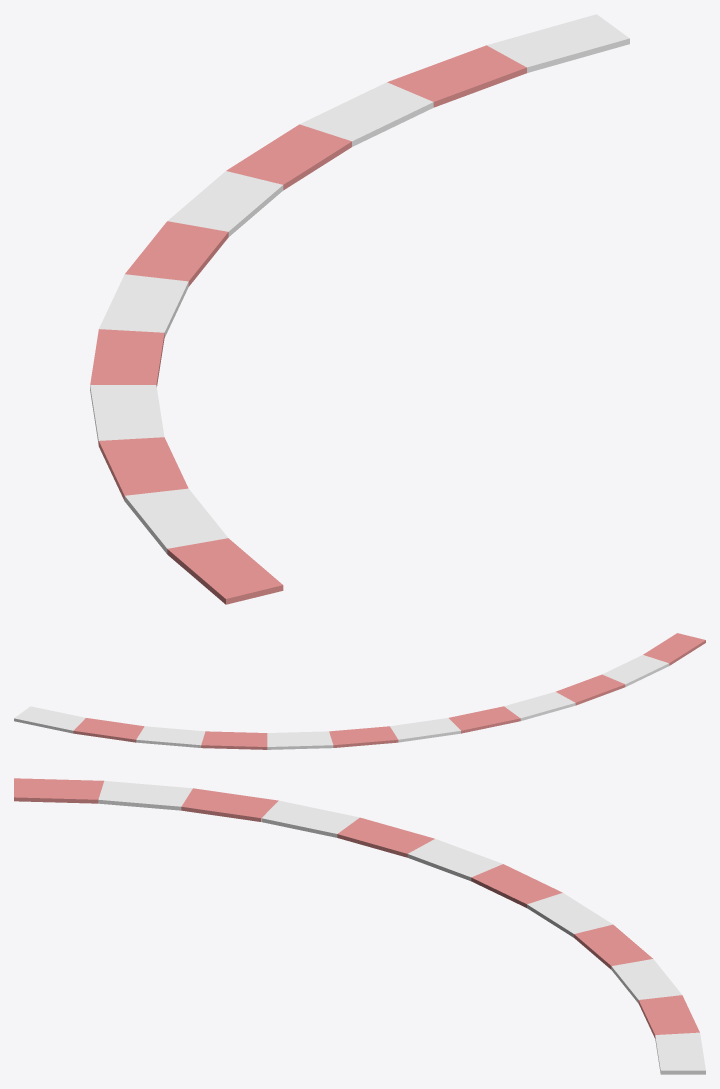
File: roadCornerLargerBorder.glb
The picture shows the model from 3 angles, top to bottom: view 1: azimuth 30°, elevation 25°; view 2: azimuth 150°, elevation 25°; view 3: azimuth 270°, elevation 25°; orthographic projection. The views are drawn at different scales.
Visible parts, largest first — view 1: roadCornerLargerBorder(Clone); view 2: roadCornerLargerBorder(Clone); view 3: roadCornerLargerBorder(Clone).
Part boxes in pixels (x1,y1,x2,y2): roadCornerLargerBorder(Clone): (90, 14, 629, 604); roadCornerLargerBorder(Clone): (14, 633, 705, 749); roadCornerLargerBorder(Clone): (14, 778, 705, 1074).
Bounding box in the file's own units: 3.21 × 0.02 × 3.21.
